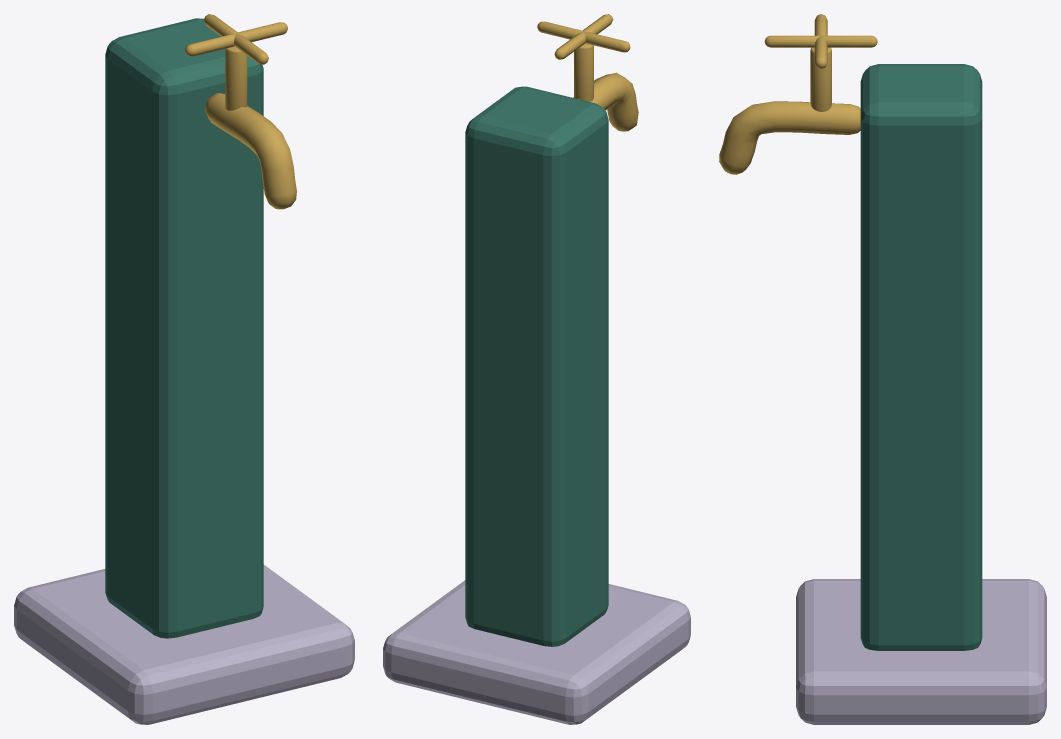
Rendered from tap_post.glb.
3 renders of one model, left to right at view 1: azimuth 30°, elevation 25°; view 2: azimuth 150°, elevation 25°; view 3: azimuth 270°, elevation 25°, orthographic. The views are drawn at different scales.
Visible parts, largest first — view 1: Post, Stone_base, Brass_tap, Valve_stem, Star_handle.002, Star_handle; view 2: Post, Stone_base, Brass_tap, Valve_stem, Star_handle.002; view 3: Post, Stone_base, Brass_tap, Valve_stem, Star_handle.003, Star_handle.001.
Part boxes in pixels (<box>): Post: <box>105,18,263,638</box>; Stone_base: <box>14,564,354,724</box>; Brass_tap: <box>204,93,296,209</box>; Valve_stem: <box>225,46,247,110</box>; Star_handle.002: <box>185,33,236,56</box>; Star_handle: <box>236,22,287,42</box>; Post: <box>465,86,608,646</box>; Stone_base: <box>383,580,690,724</box>; Brass_tap: <box>573,72,638,131</box>; Valve_stem: <box>574,43,593,101</box>; Star_handle.002: <box>584,31,630,52</box>; Post: <box>860,64,982,650</box>; Stone_base: <box>796,579,1046,724</box>; Brass_tap: <box>719,101,860,174</box>; Valve_stem: <box>810,47,831,111</box>; Star_handle.003: <box>821,35,877,47</box>; Star_handle.001: <box>764,35,820,47</box>.
Bounding box in the file's own units: 0.35 × 0.989 × 0.4575.
